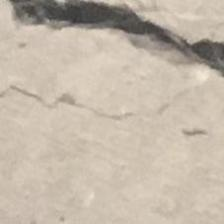Crack: (0, 0, 224, 81)
